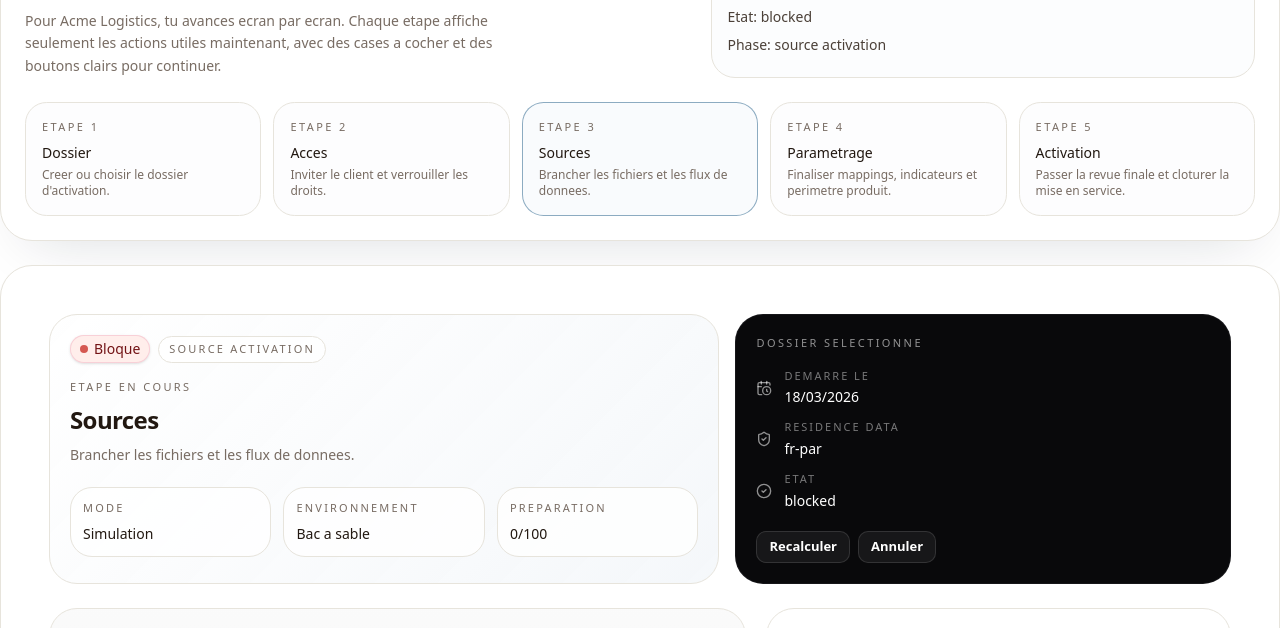
Scenario: OnboardingPage › does not fetch org users when the profile lacks admin:users permissions
Click the button "Etape 1 Dossier Creer ou choisir le dossier d'activation." at {"x": 143, "y": 159}, box [25,102,261,216]
(page scrolled)
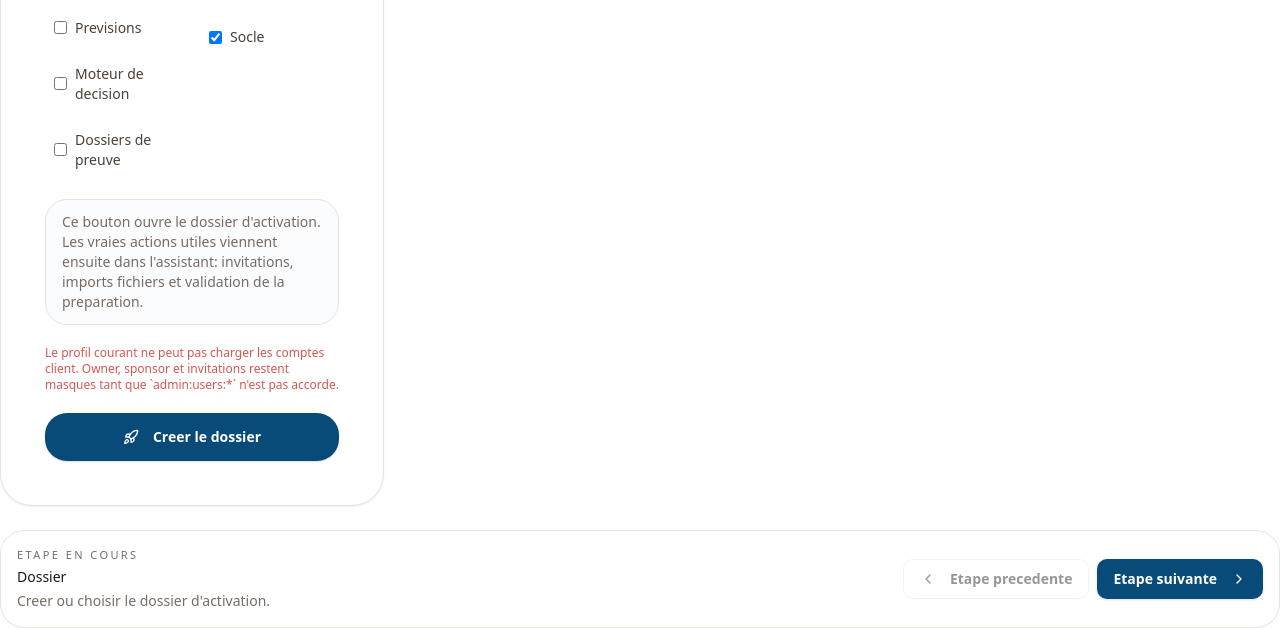
Expected: the text "Le profil courant ne peut pas charger les comptes client" is shown, [45,344,339,393]
